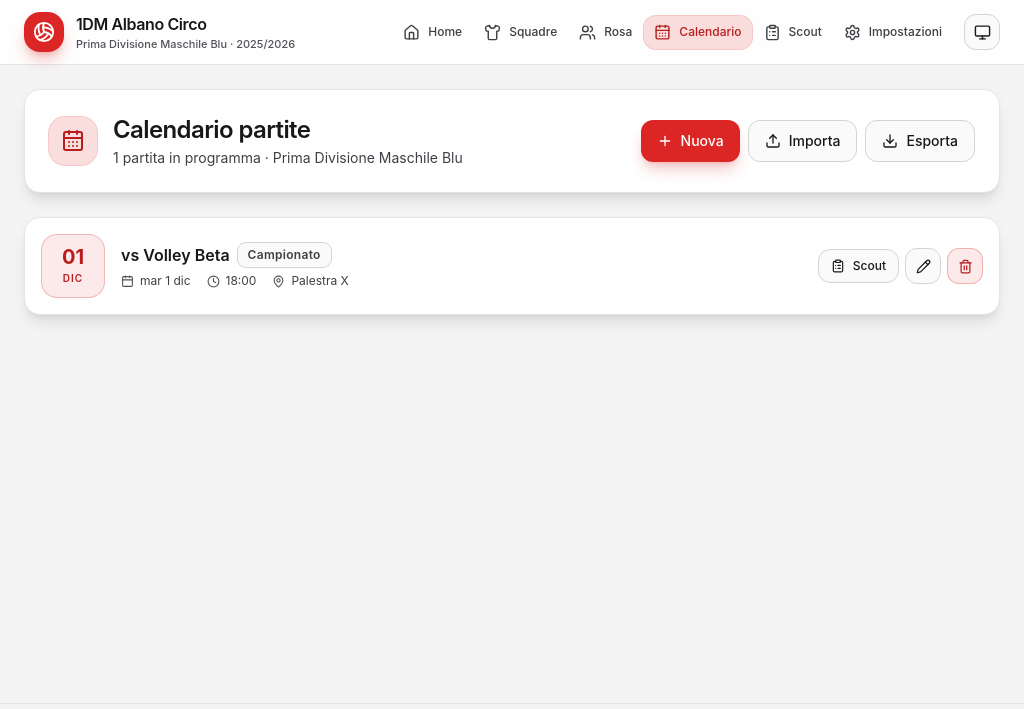
it: scout › precompila il form arrivando dal pulsante del calendario
Click the link with aria-label "Scout contro Volley Beta": (858, 266) [818,249,899,283]
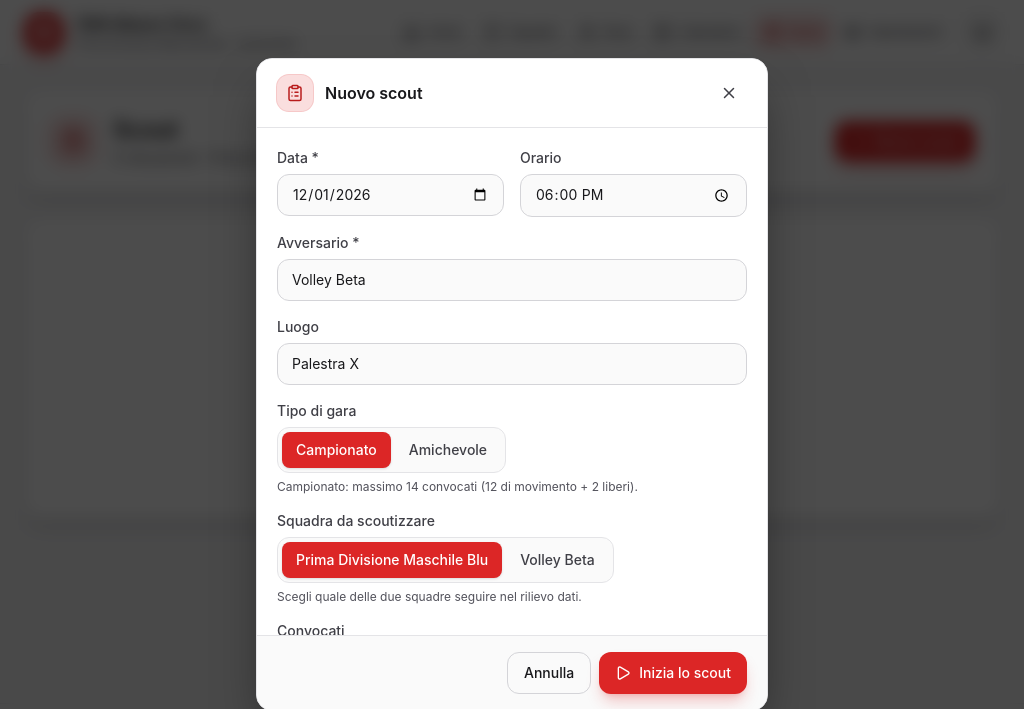
Expected: the date field labelled "Data *" holds "2026-12-01", [277,174,504,216]
Expected: the time field labelled "Orario" holds "18:00", [520,174,747,216]
Expected: the field labelled "Avversario *" holds "Volley Beta", [277,258,747,300]
# Si può scegliere di scoutizzare la squadra avversaria.
Click the radio button labelled "Volley Beta": (558, 559) [506,541,609,577]
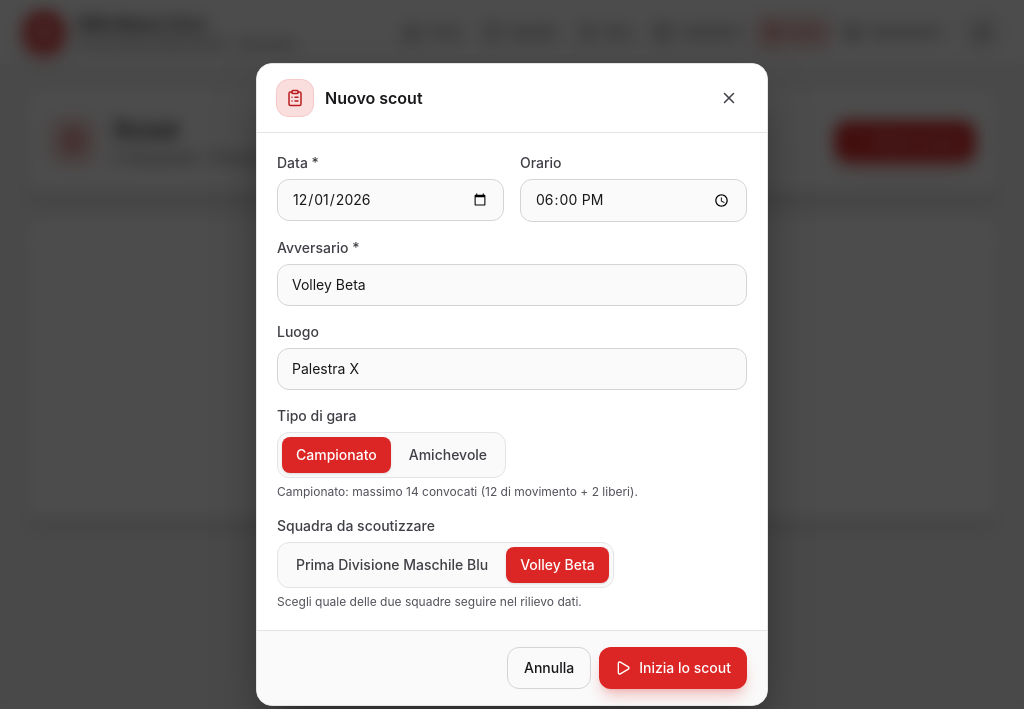
Click the button "Inizia lo scout": (673, 667) [599,646,747,688]
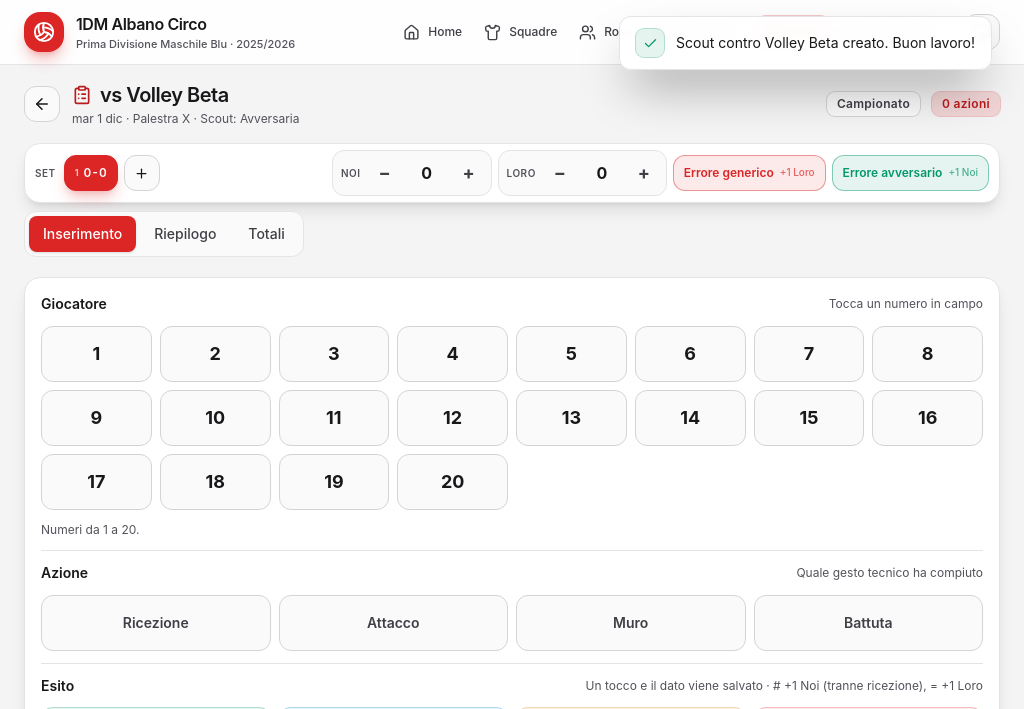
Expected: the heading "vs Volley Beta" is shown, [72,83,229,107]
